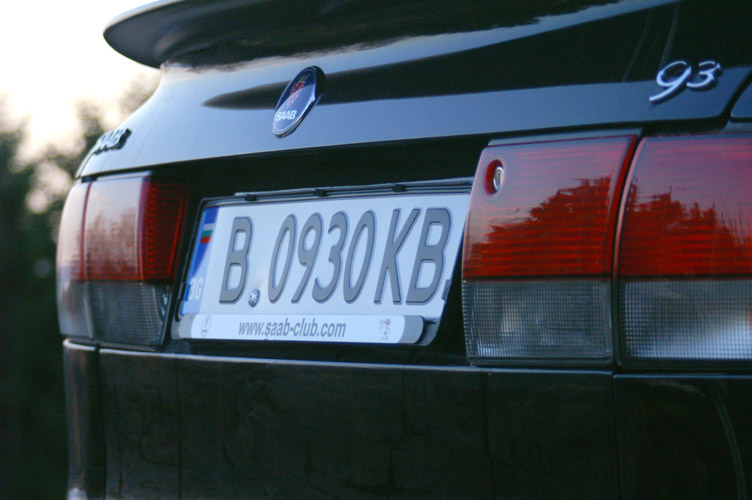registration_plate: (177, 189, 475, 345)
